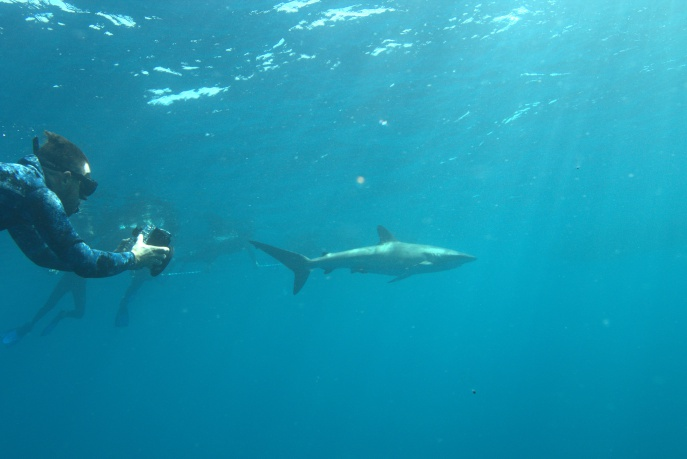Sedoso: (241, 219, 482, 302)
